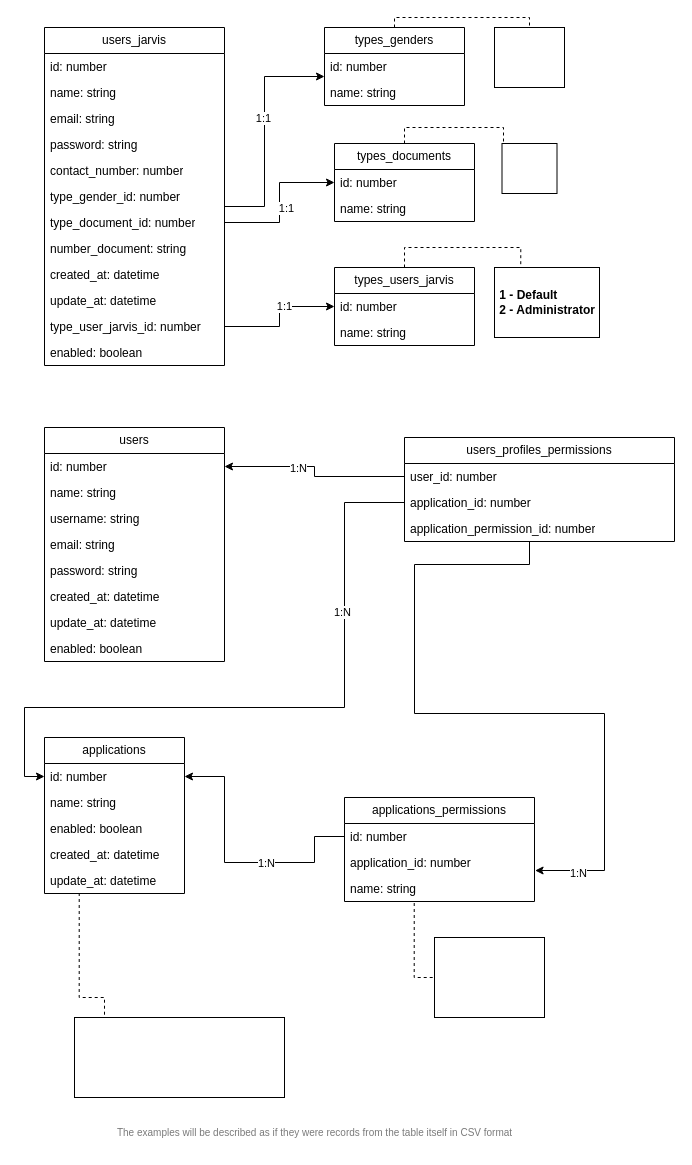
The diagram is 692 pixels wide and 1165 high, and some of its shapes have lost their labels. The centre of each missing label's shape, as x and y in pixels:
"1 - CPF 2 - SSN" belongs at pixel 529 168.
"1 - Male 2 - Female" belongs at pixel 529 57.
"Example: 1 ; 1 ; TEACHER 2 ; 1 ; DIRECTOR" belongs at pixel 489 977.
"Example: 1 ; SYS_SCHOOL ; true ; ... 2 ; SYS_RESTAURANT ; false ; ..." belongs at pixel 179 1057.
